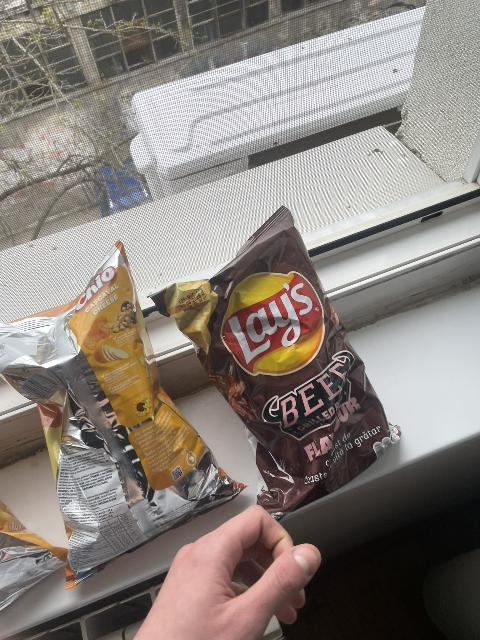Chio Cascaval 125g: (0, 257, 252, 587)
Chio Hula Hoops Cheese 70g: (0, 494, 69, 614)
Lays Beef Grilled Ribs 125g: (169, 214, 394, 503)
